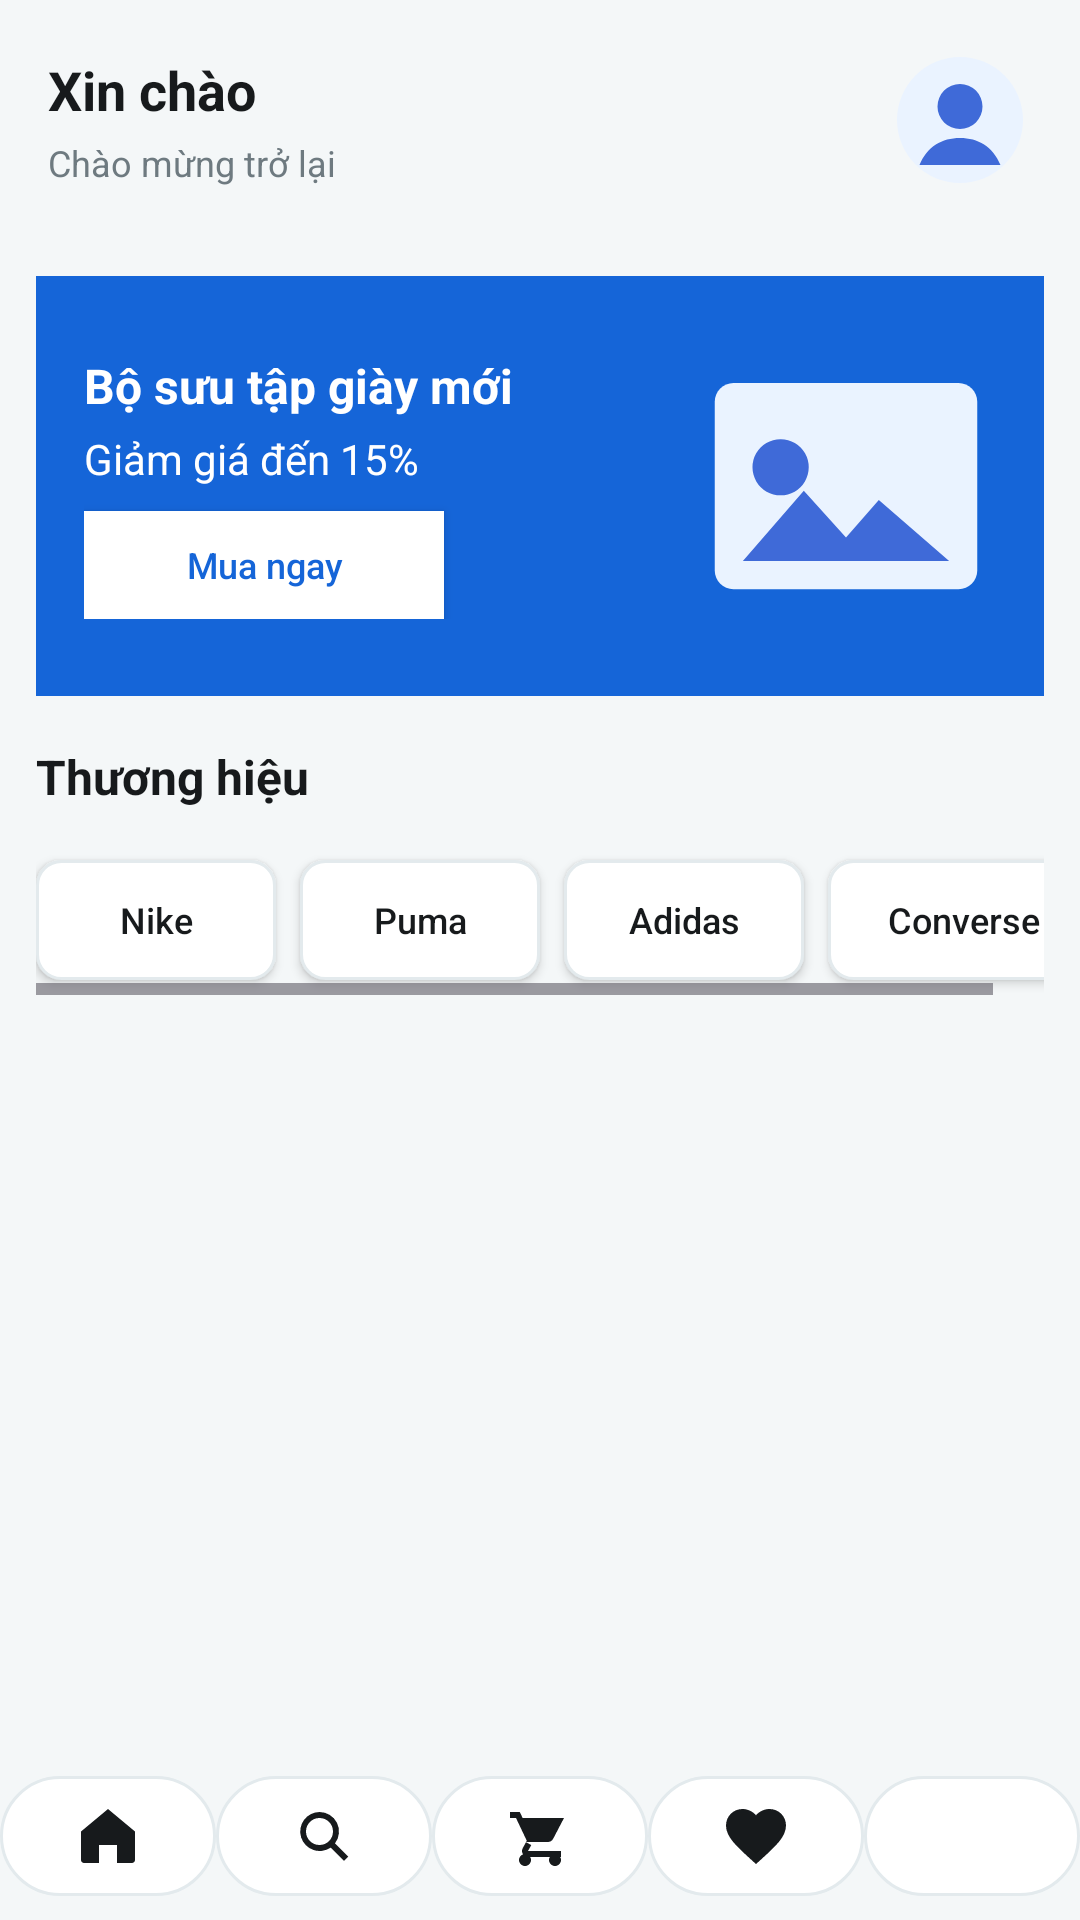

Screen size 1080 × 1920. Icon name, then its center in pixels as (x,y):
Giỏ hàng: (540,1836)
Trang chủ: (108,1836)
Tìm kiếm: (324,1836)
Yêu thích: (756,1836)
